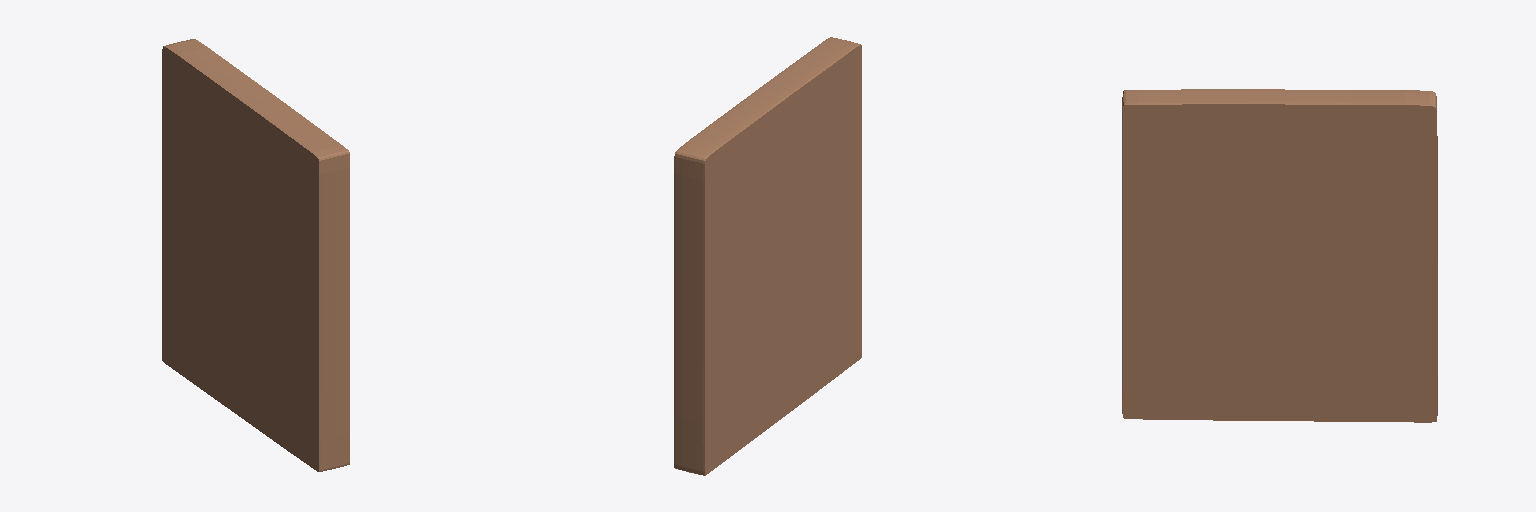
File: cutting_board.obj
3 views of the same model, side by side, from view 1: azimuth 30°, elevation 25°; view 2: azimuth 150°, elevation 25°; view 3: azimuth 270°, elevation 25° (orthographic).
Parts seen in each view (by area): view 1: p0000.86735; view 2: p0000.86735; view 3: p0000.86735.
Boxes of the visible parts, <box> form: p0000.86735: <box>162,39,349,471</box>; p0000.86735: <box>674,37,861,475</box>; p0000.86735: <box>1122,89,1437,422</box>.
Size of the model in its own units: 0.4149 by 4.12 by 3.69.